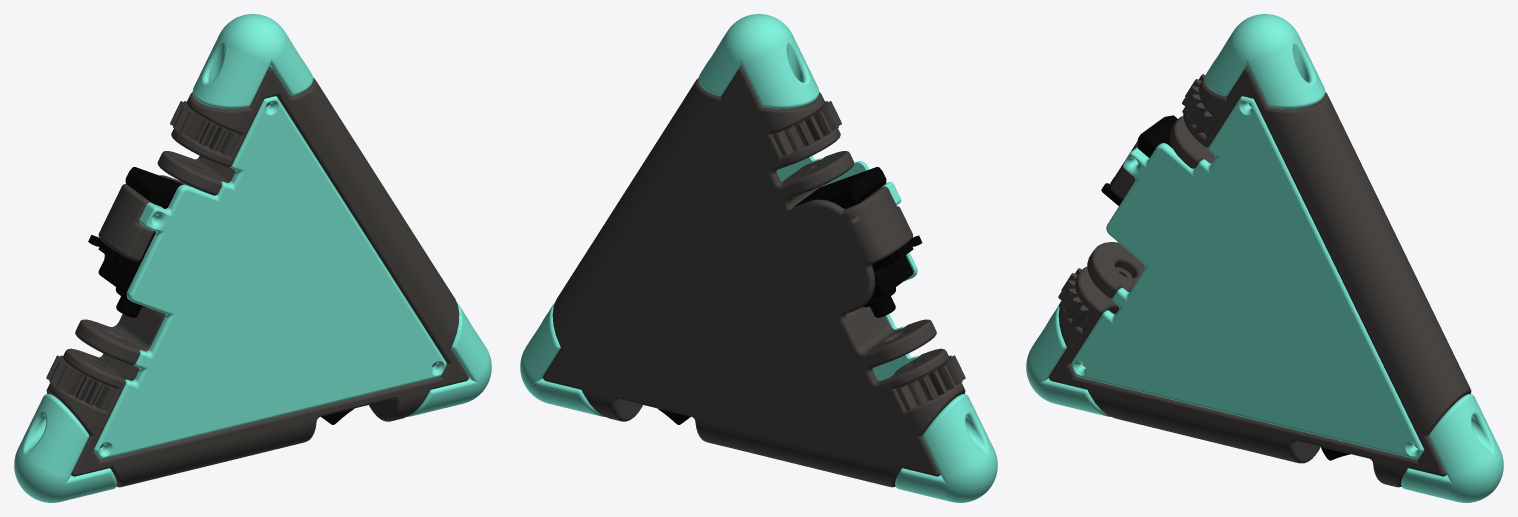
Rendered from base_piece.glb.
The picture shows the model from 3 angles, left to right: view 1: azimuth 30°, elevation 25°; view 2: azimuth 150°, elevation 25°; view 3: azimuth 330°, elevation 25°; orthographic projection.
Parts seen in each view (by area): view 1: piece_female_v5_sim; view 2: piece_female_v5_sim; view 3: piece_female_v5_sim.
Part boxes in pixels (x1,y1,x2,y2): piece_female_v5_sim: (14, 14, 491, 502); piece_female_v5_sim: (520, 14, 997, 502); piece_female_v5_sim: (1026, 14, 1503, 502).
Bounding box in the file's own units: 0.1361 × 0.1204 × 0.0218.
